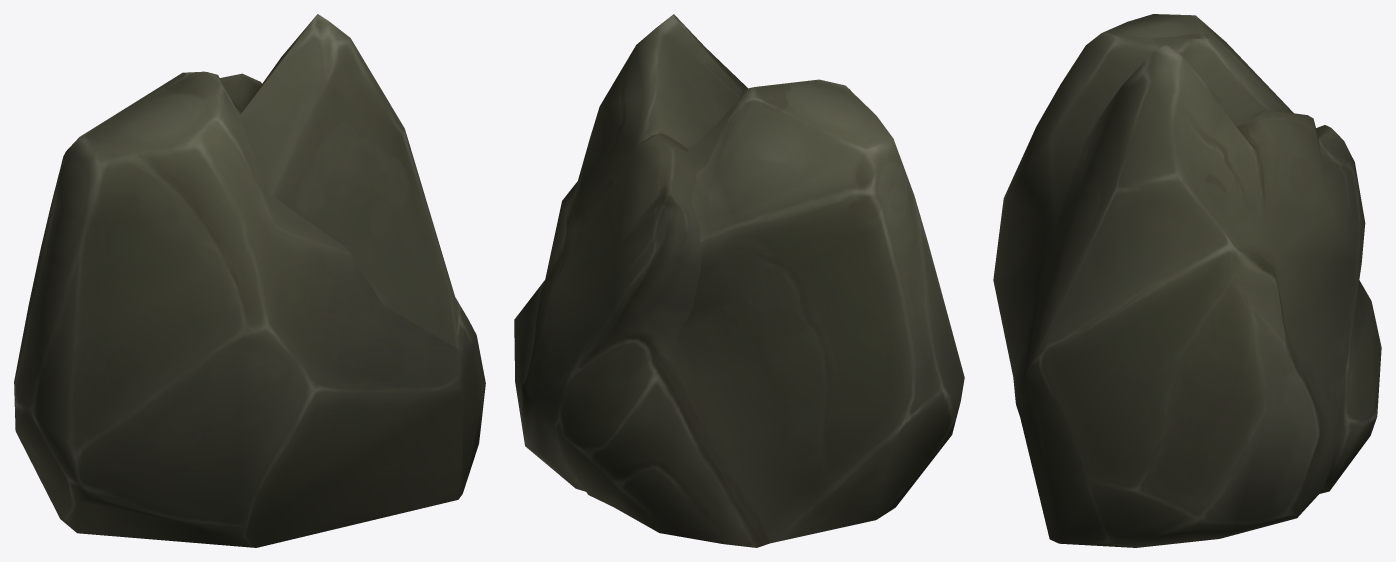
File: Rock_2.FBX
3 renders of one model, left to right at view 1: azimuth 30°, elevation 25°; view 2: azimuth 150°, elevation 25°; view 3: azimuth 270°, elevation 25°, orthographic. The views are drawn at different scales.
Parts seen in each view (by area): view 1: Rock_2; view 2: Rock_2; view 3: Rock_2.
Boxes of the visible parts, x1,y1,x2,y2 form: Rock_2: (14,14,485,547); Rock_2: (514,14,964,547); Rock_2: (993,14,1381,547).
Size of the model in its own units: 1395 by 1436 by 1109.
